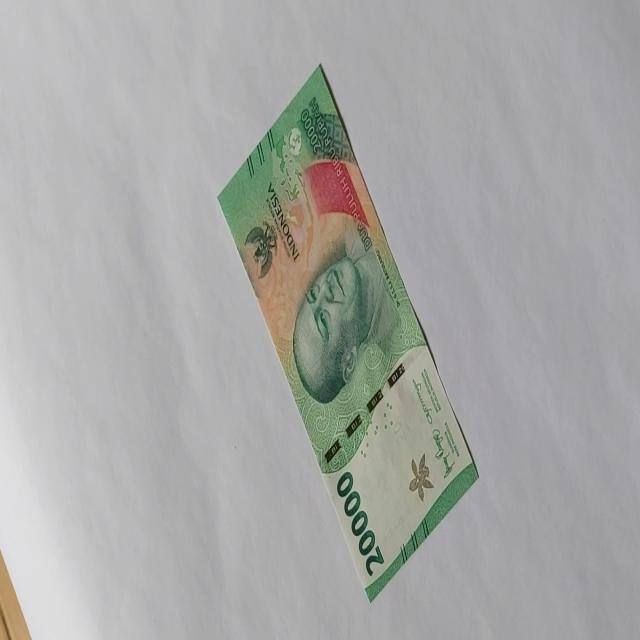dua puluh ribu rupiah: (216, 61, 479, 603)
